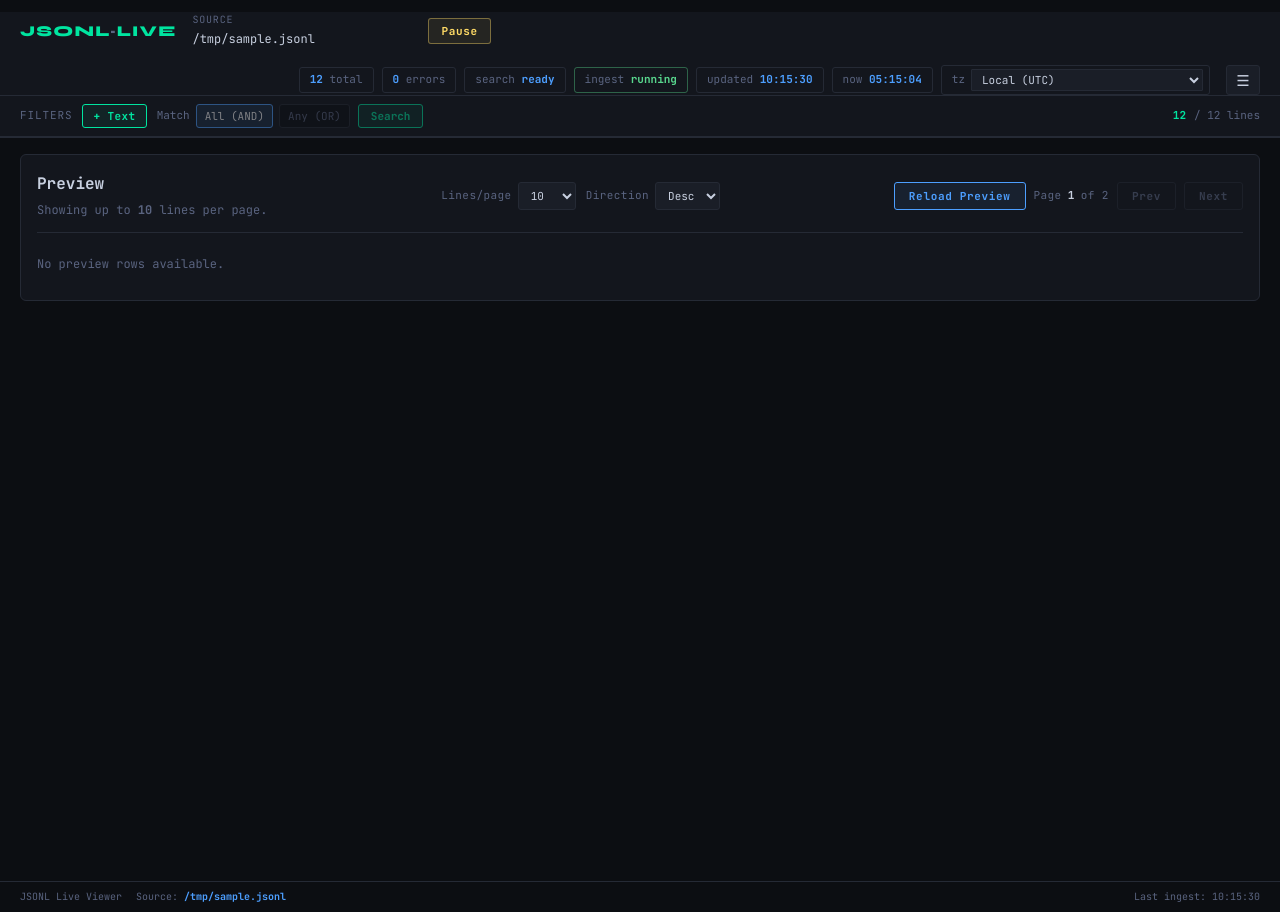
Test: App admin confirmations and lock › switches both ingest size values to success color on exact byte match
The image size is (1280, 912).
Click the button named "Open admin menu".
click(1243, 80)  # box [1226,65,1260,95]
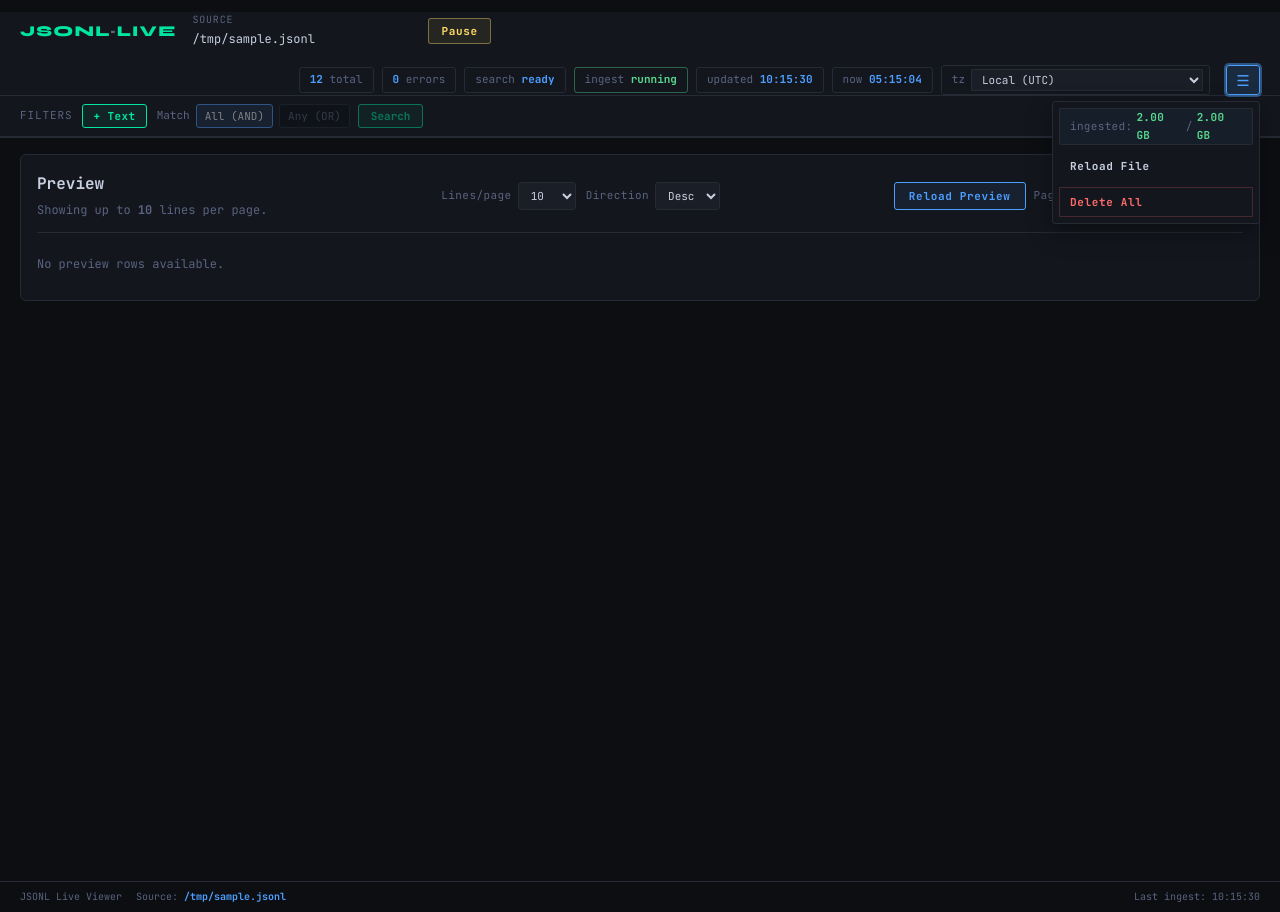
Now the text "2.00 GB" is shown 2 times, box [1136,110,1164,142]; [1197,110,1224,142]
